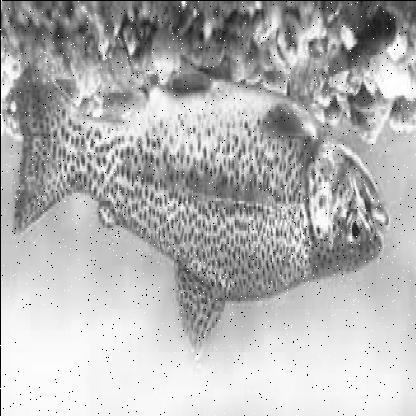fish: (16, 60, 390, 352)
